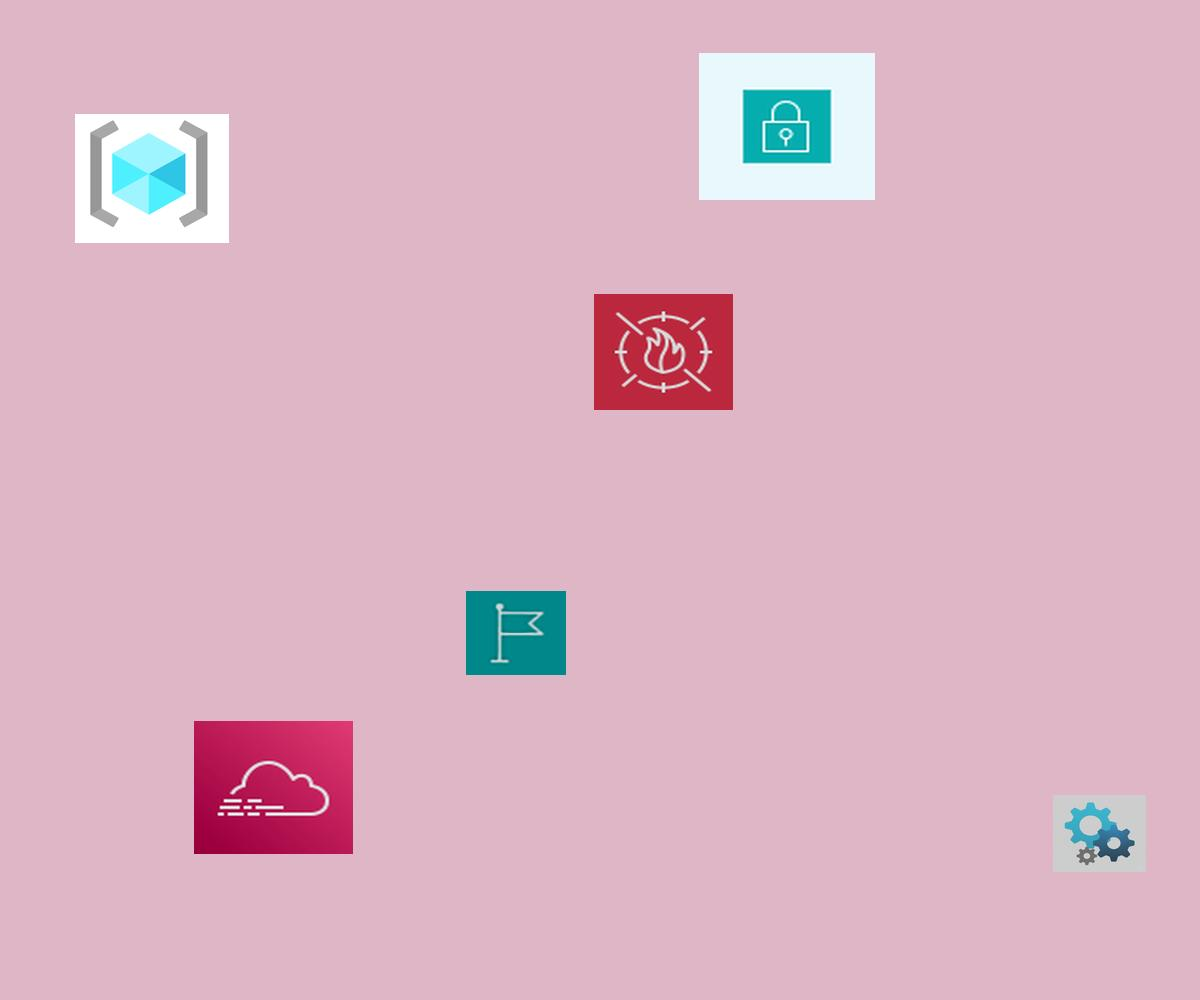AWS-CloudTrail: (194, 721, 353, 854)
AWS-Private-subnet: (699, 53, 875, 200)
AWS-Region: (466, 591, 566, 675)
AWS-WAF: (594, 294, 733, 410)
Azure_api: (1053, 795, 1146, 872)
Azure_resource_group: (75, 114, 229, 243)
